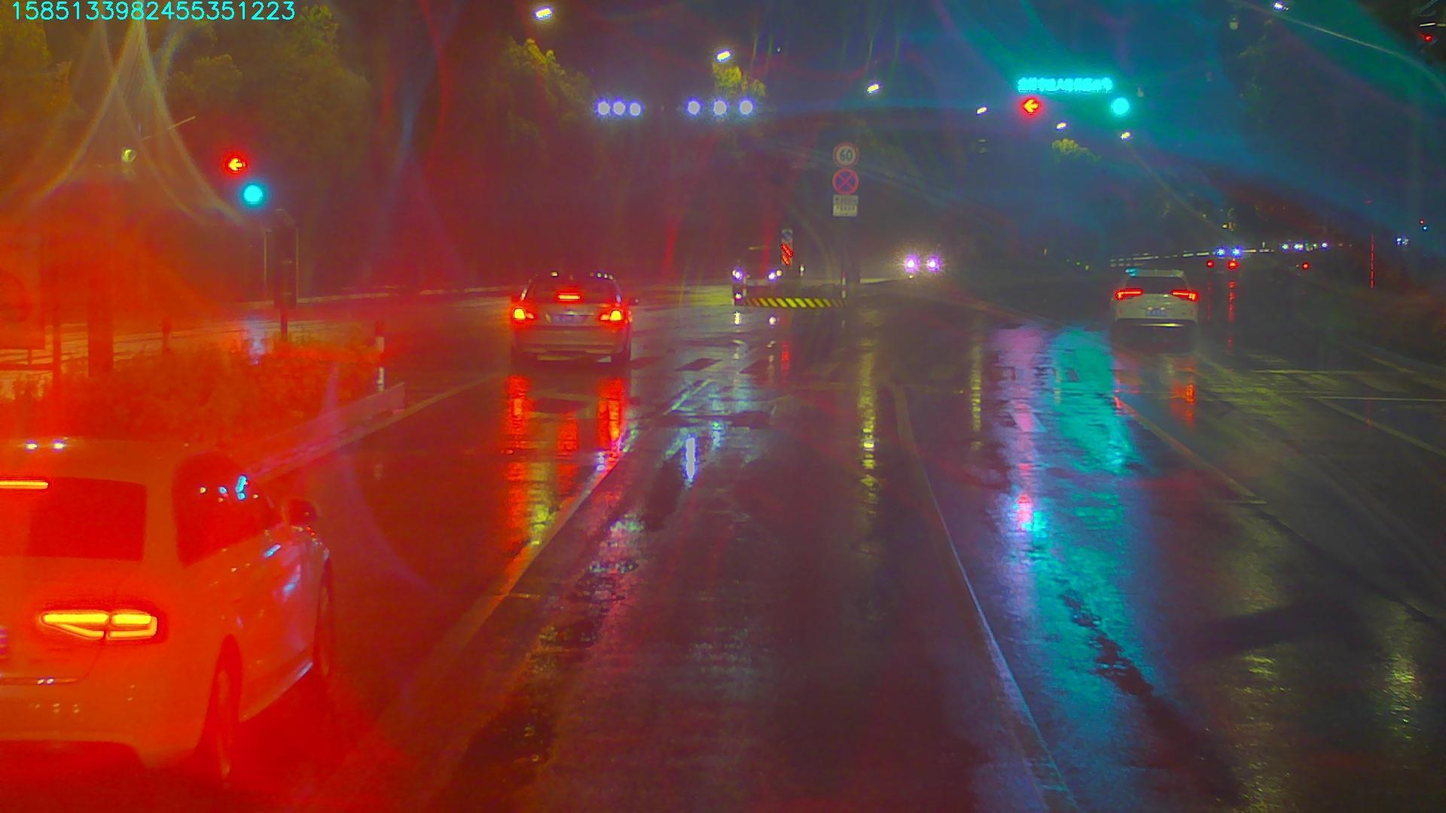green: (1107, 93, 1133, 124)
red: (1020, 96, 1042, 117)
wait_on: (1018, 72, 1116, 94)
